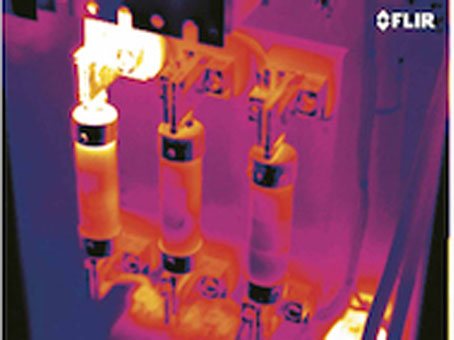componente_T: (66, 3, 165, 178), (310, 282, 399, 340)
